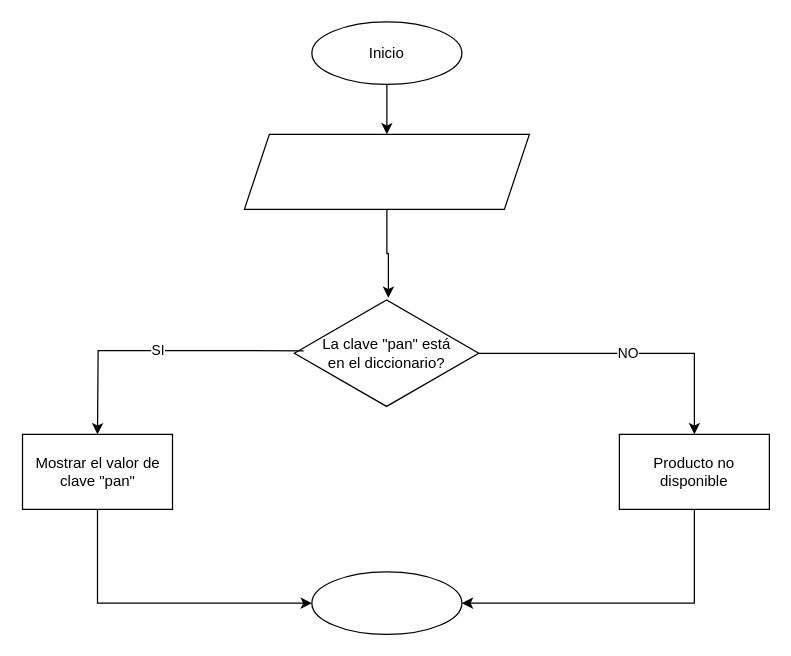
Image size: 791x656. Some labels were removed from this diagram. Here are the shapes that lost their labels. From the top down, the box of each, then its label:
(243, 133, 529, 209): diccionario = {"pan" : 1200 , "Leche" : 2000}
(311, 571, 462, 634): Final
